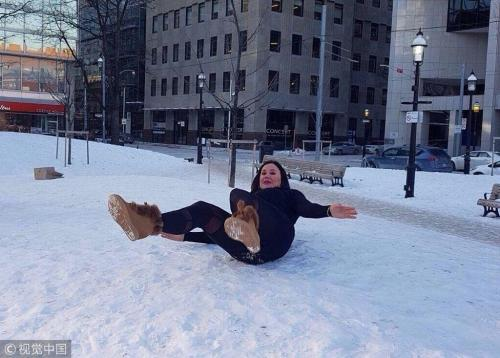fall: (100, 147, 354, 275)
